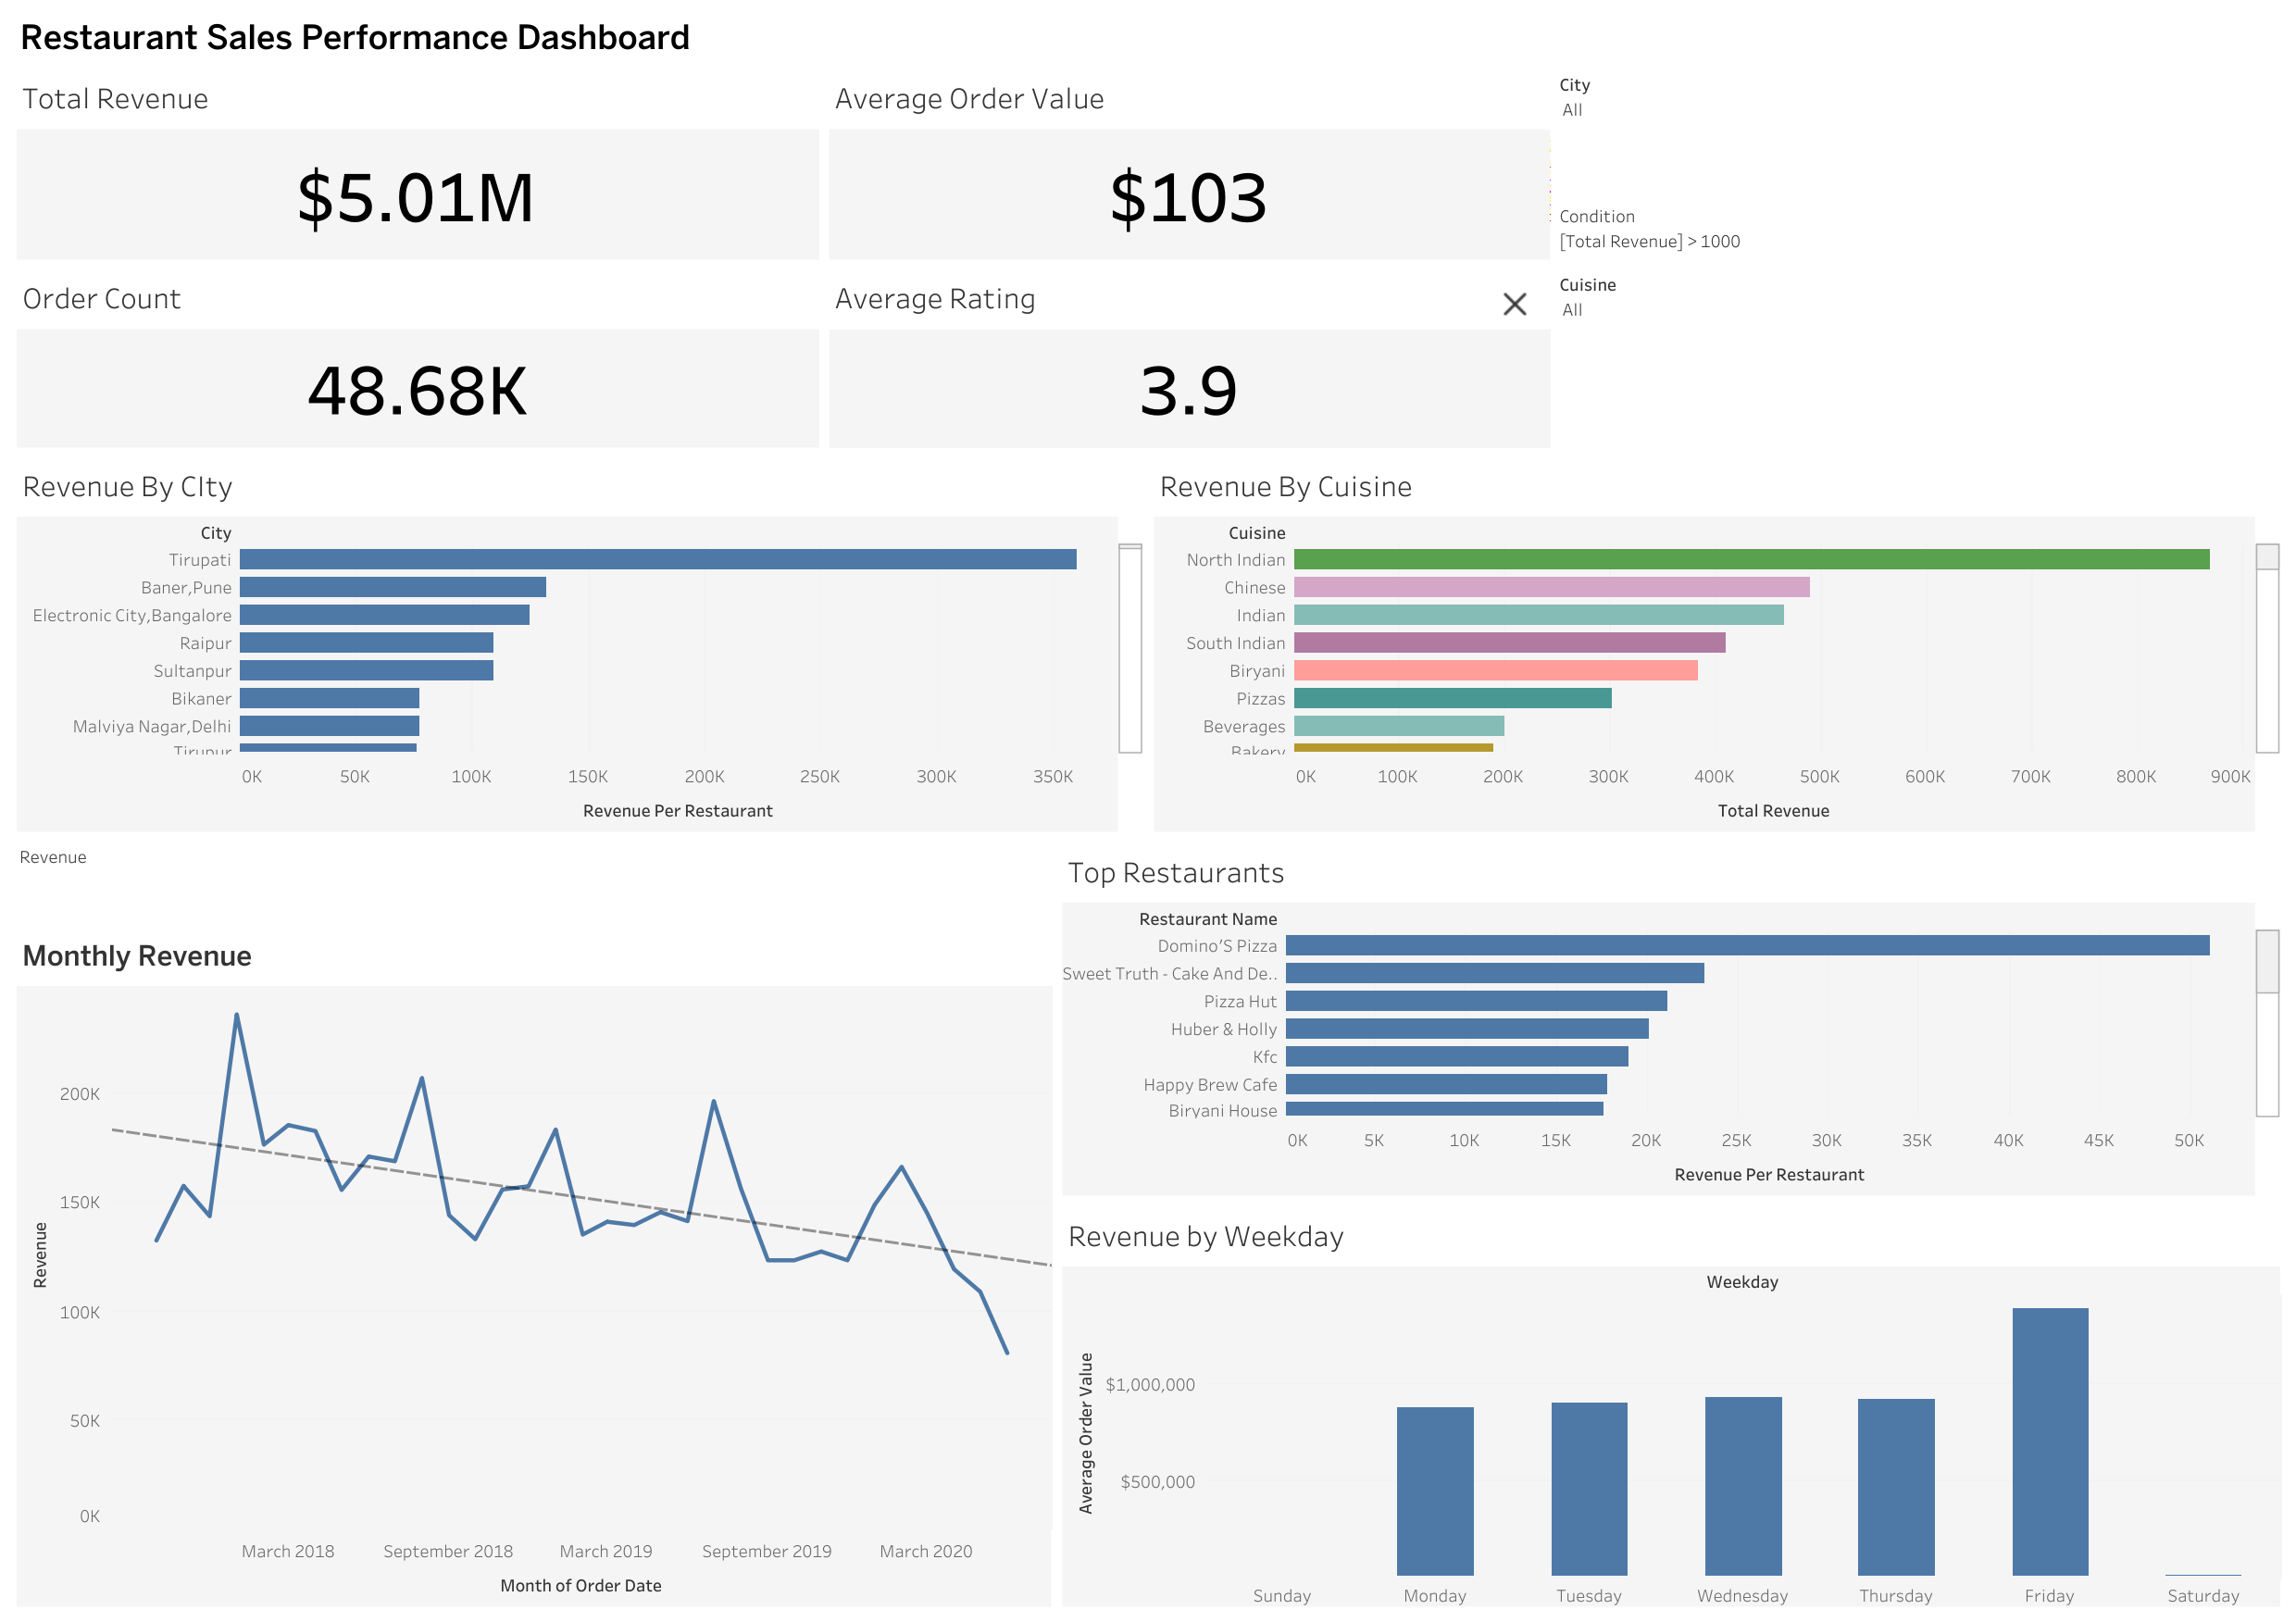

The dashboard page shown, as its layout file describes it:
{"tool":"tableau","page":{"name":"Restaurant Sales Performance Dashboard","canvas":[1569,1154],"ordinal":0},"visuals":[{"type":"title","box":[8,8,1553,52]},{"type":"worksheet","title":"Total Revenue","mark":"Automatic","box":[8,60,554.5,139.7]},{"type":"worksheet","title":"Average Order Value","mark":"Automatic","box":[562.5,60,499.2,139.7]},{"type":"filter","title":"Revenue By CIty","param":"[federated.1hd6oou1as34mc1ev6div1xx6x2p].[none:city_proper:nk]","box":[1061.7,60,499.3,139.7]},{"type":"worksheet","title":"Order Count","mark":"Automatic","box":[8,199.7,554.5,131.7]},{"type":"worksheet","title":"Average Rating","mark":"Automatic","box":[562.5,199.7,498.6,131.7]},{"type":"filter","title":"Revenue By Cuisine","param":"[federated.1hd6oou1as34mc1ev6div1xx6x2p].[none:cuisine_proper:nk]","box":[1061.1,199.7,499.9,128]},{"type":"worksheet","title":"Revenue By CIty","mark":"Automatic","rows":["city_proper"],"cols":["Calculation_1040143621246978"],"box":[8,331.4,776.4,271.5]},{"type":"worksheet","title":"Revenue By Cuisine","mark":"Automatic","rows":["cuisine_proper"],"cols":["Calculation_1040143620845568"],"box":[784.4,331.4,776.6,271.5]},{"type":"parameter","param":"[Parameters].[Parameter 1]","box":[8,602.9,713.8,60.6]},{"type":"worksheet","title":"Top Restaurants","mark":"Automatic","rows":["name_proper"],"cols":["Calculation_1040143621246978"],"box":[721.8,602.9,839.2,262]},{"type":"worksheet","title":"Monthly Metrics","mark":"Automatic","rows":["Calculation_1040143985274886"],"cols":["order_date"],"box":[8,663.5,713.8,482.5]},{"type":"worksheet","title":"Revenue by Weekday","mark":"Automatic","rows":["Calculation_1040143620845568"],"cols":["weekday"],"box":[721.8,864.9,839.2,281.1]}]}

Visuals, with their boxes on the page's 1569x1154 design canvas (x1, y1, x2, y2). These are canvas units, not pixel positions in the 2296x1622 screenshot, which may show the page scaled, cropped or inside an application window:
title: locate(8, 8, 1561, 60)
"Total Revenue" worksheet: locate(8, 60, 562, 200)
"Average Order Value" worksheet: locate(562, 60, 1062, 200)
"Revenue By CIty" filter: locate(1062, 60, 1561, 200)
"Order Count" worksheet: locate(8, 200, 562, 331)
"Average Rating" worksheet: locate(562, 200, 1061, 331)
"Revenue By Cuisine" filter: locate(1061, 200, 1561, 328)
"Revenue By CIty" worksheet: locate(8, 331, 784, 603)
"Revenue By Cuisine" worksheet: locate(784, 331, 1561, 603)
parameter: locate(8, 603, 722, 664)
"Top Restaurants" worksheet: locate(722, 603, 1561, 865)
"Monthly Metrics" worksheet: locate(8, 664, 722, 1146)
"Revenue by Weekday" worksheet: locate(722, 865, 1561, 1146)
